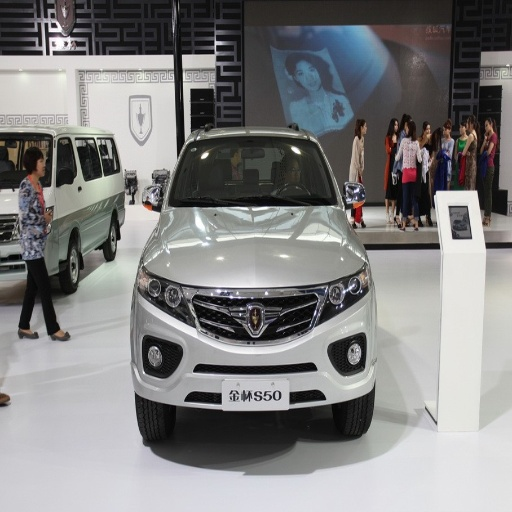front_bumper: (133, 279, 376, 412)
front_right_light: (136, 266, 191, 322)
hood: (145, 205, 364, 286)
